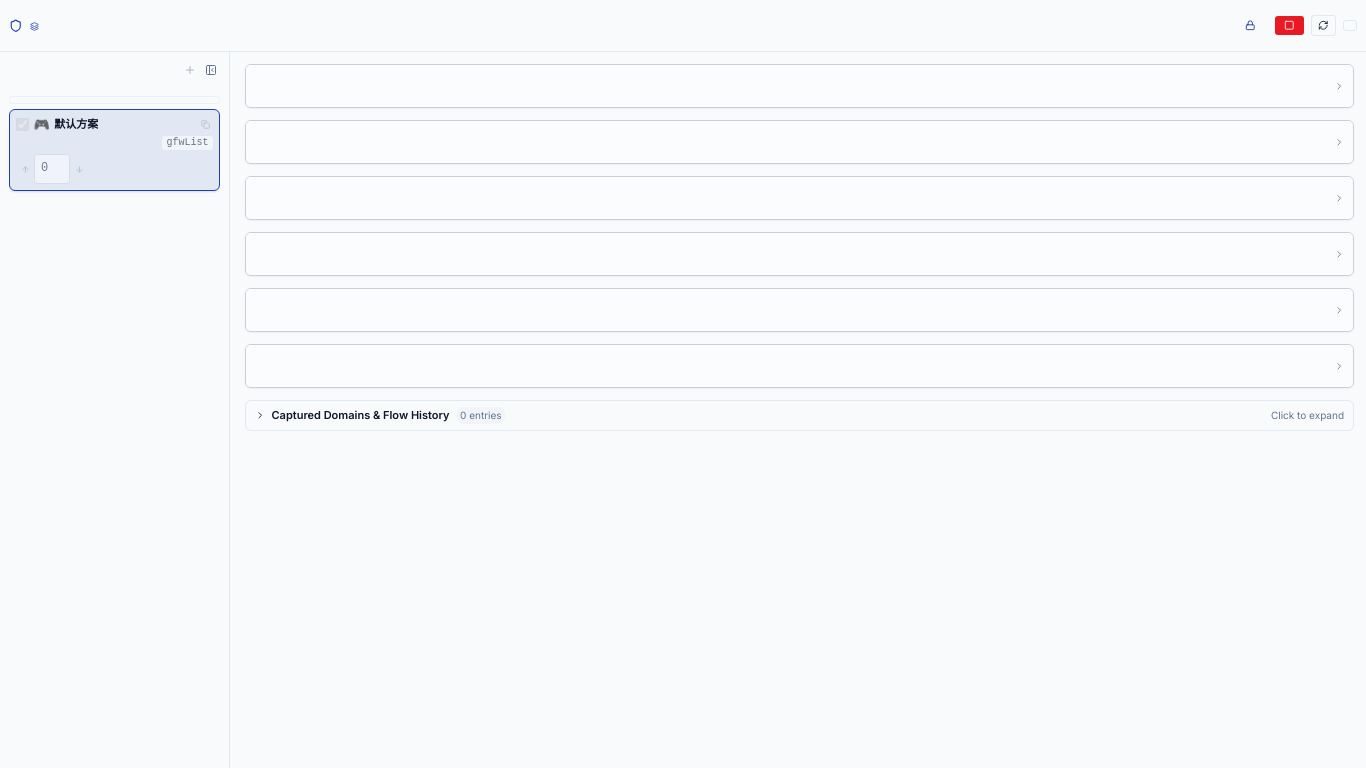
Scenario: SocksCapPanel Multi-Profile UI › locks every profile and routing-rule mutation while running
Expected: the element with test id "sockscap-locked-banner" is shown, x1=1245 y1=20 x2=1256 y2=31
Expected: the number field with test id "sockscap-profile-priority-input-default" is disabled, x1=34 y1=154 x2=70 y2=184
// Policy and shared routing-rule mutations are disabled as well.
What coordinates should you click on to do the following:
click the button with test id "sockscap-section-rules-toggle"
I would click on:
 (1339, 254)
Its box is x1=246 y1=233 x2=1353 y2=275.
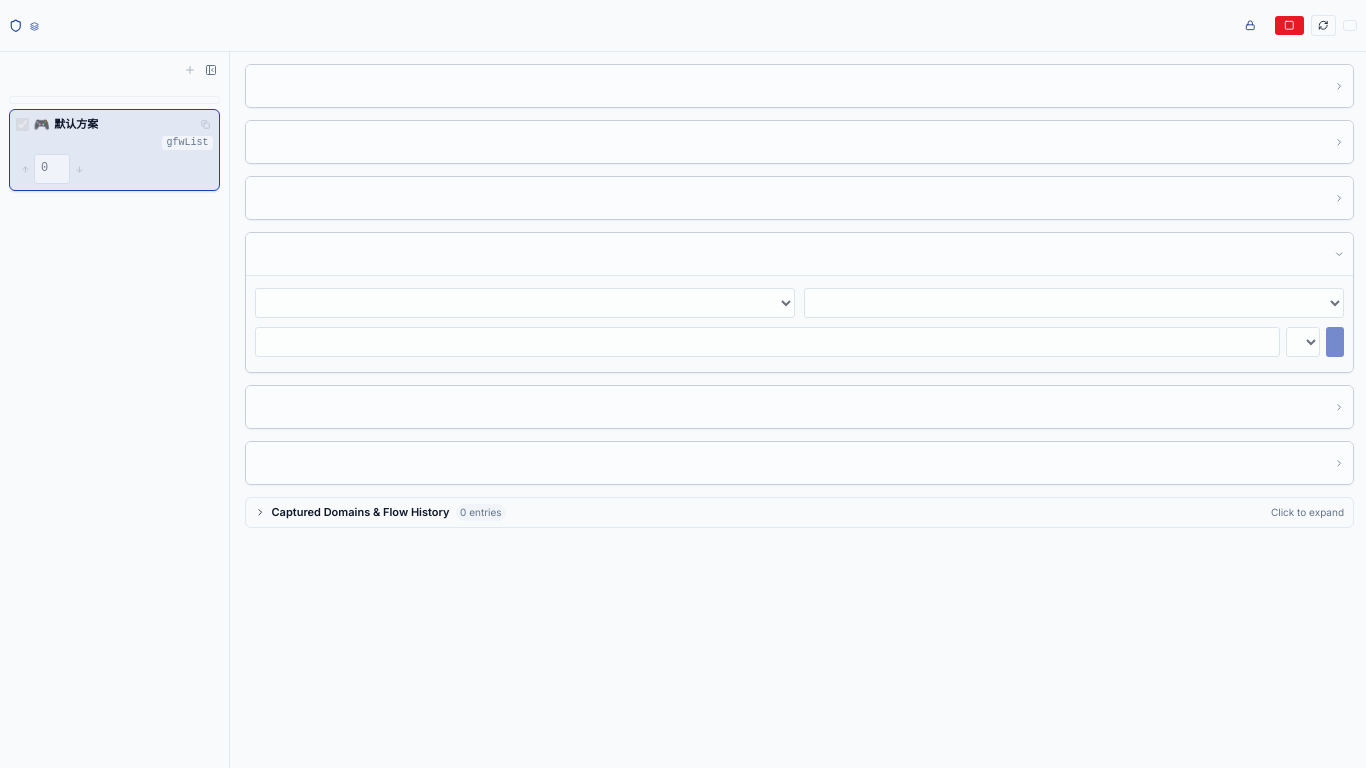
Expected: the element with test id "sockscap-rules-editor" is disabled, x1=255 y1=285 x2=1344 y2=363
What coordinates should you click on to do the following:
click the button with test id "sockscap-section-gfwlist-toggle"
I would click on:
 (1339, 463)
Its box is x1=246 y1=442 x2=1353 y2=484.
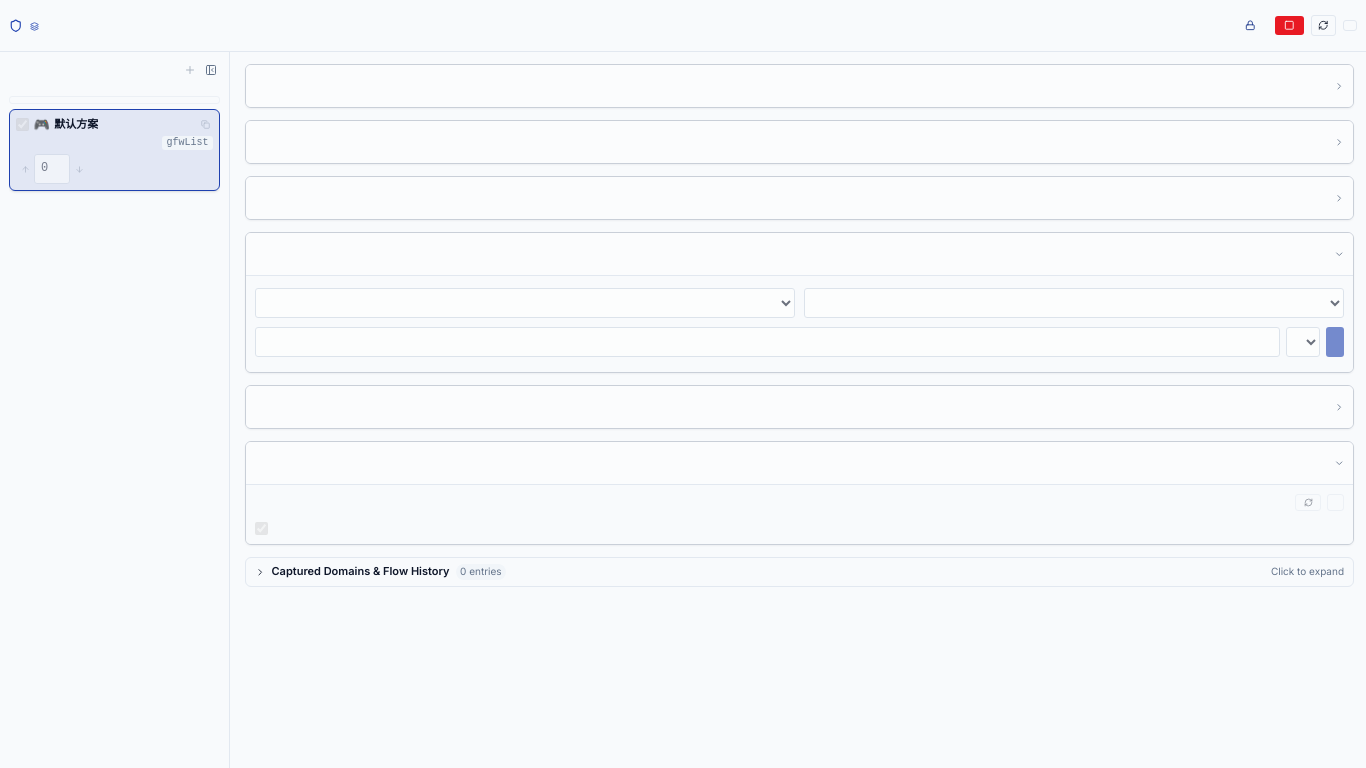
Expected: the button with test id "sockscap-refresh-gfw" is disabled, x1=1295 y1=494 x2=1321 y2=511
